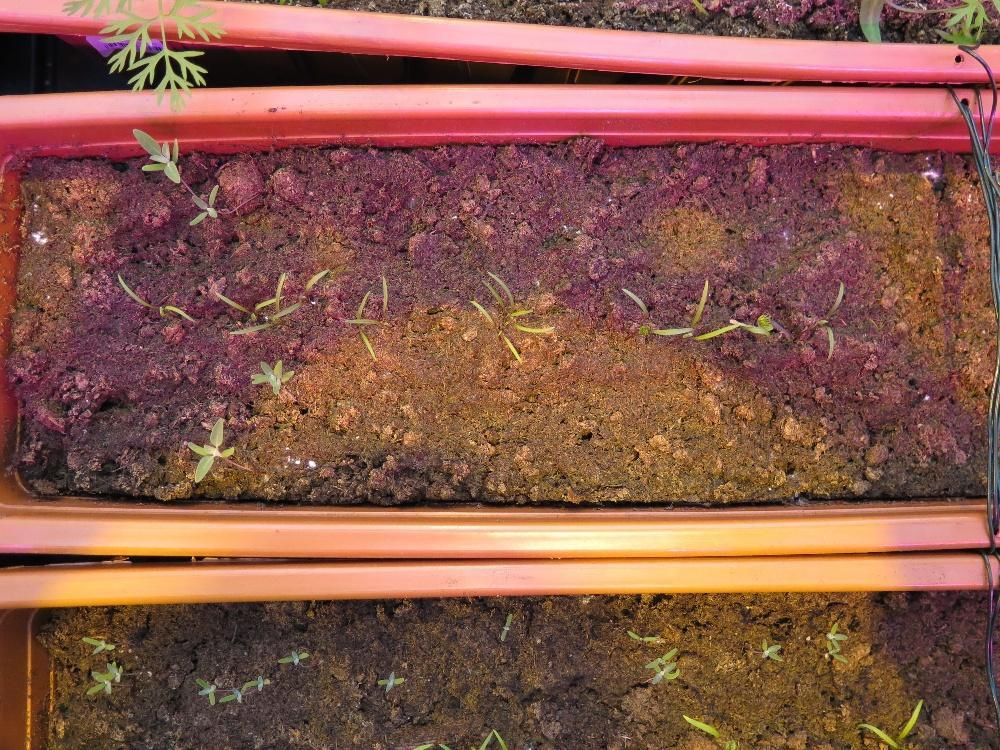weed: (185, 416, 235, 483), (130, 126, 180, 184), (188, 182, 219, 225), (376, 667, 404, 692), (193, 676, 216, 706), (275, 647, 308, 667), (759, 636, 783, 663), (80, 635, 115, 653), (623, 627, 658, 640), (499, 610, 512, 642)
